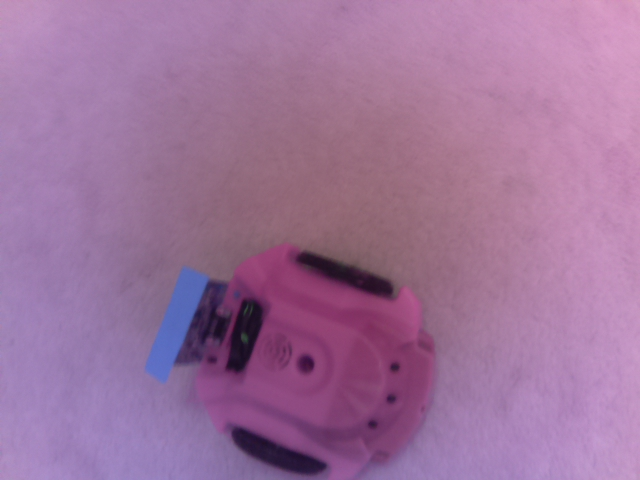board: (129, 262, 229, 381)
chassis: (140, 229, 447, 480)
